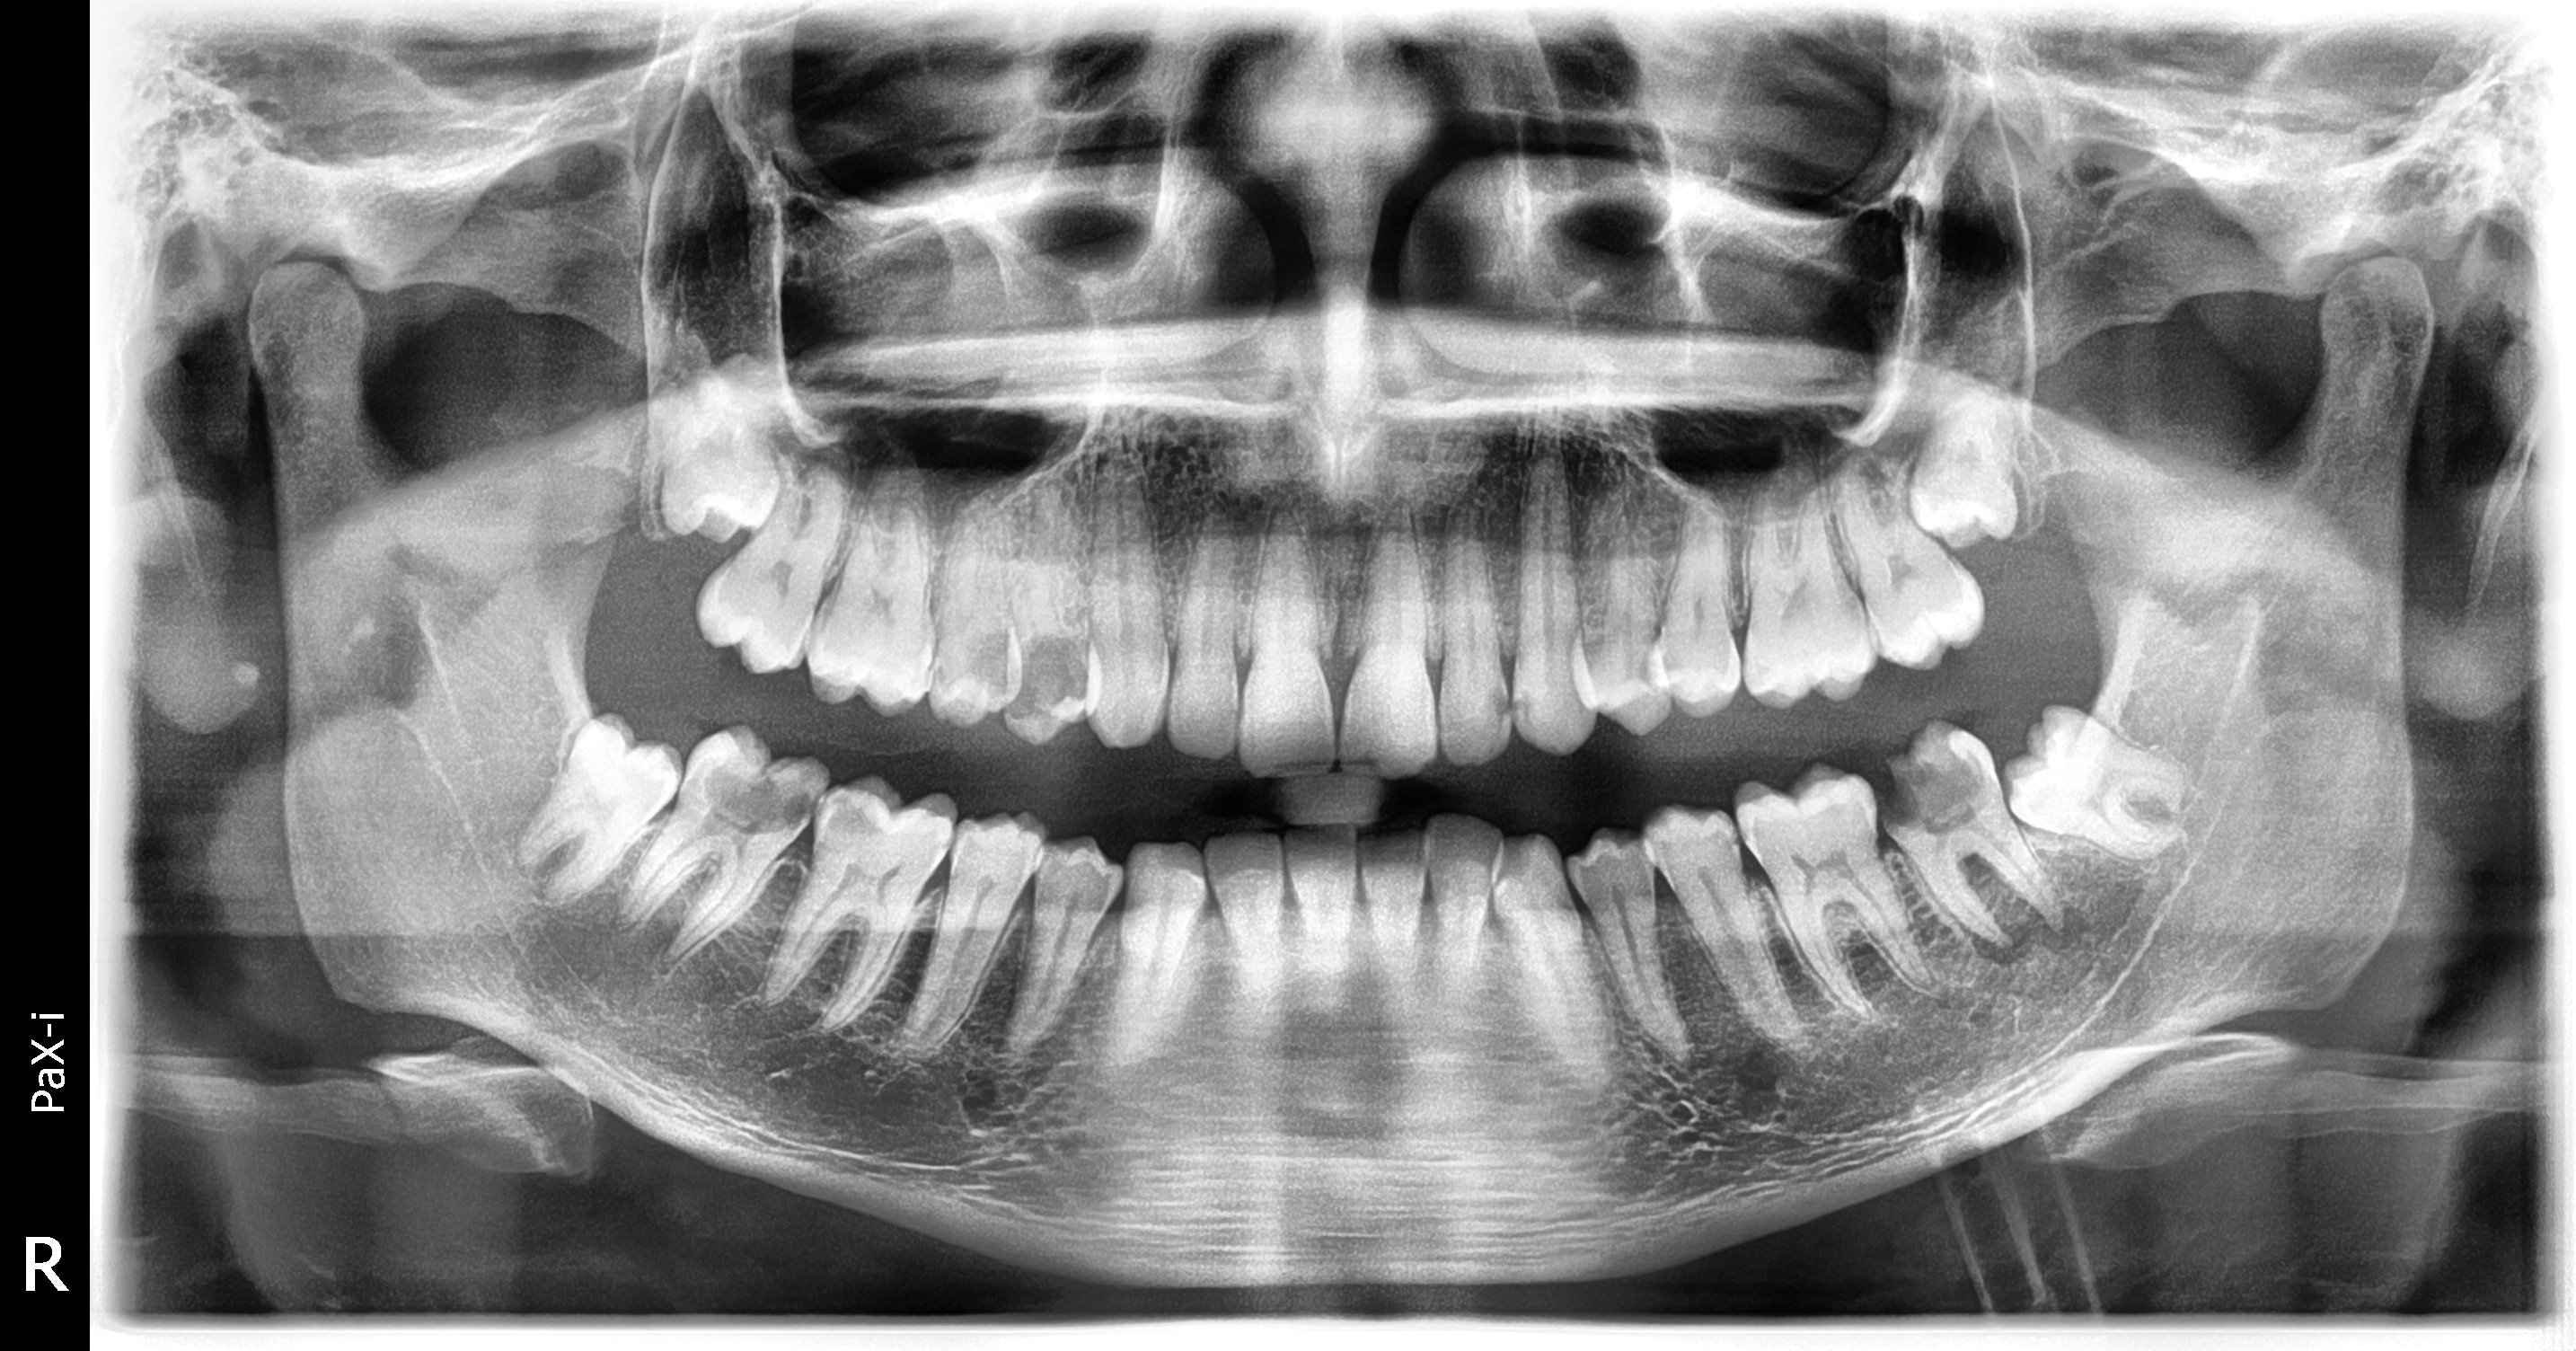API: (978, 397, 2576, 1351), (923, 433, 2576, 1351)
CAR: (876, 286, 2576, 1130), (714, 310, 2261, 1043), (700, 295, 2220, 1031), (441, 232, 1554, 981), (424, 283, 1455, 976), (371, 373, 1222, 1211), (281, 293, 1097, 1148)
IMT: (864, 250, 2576, 1118), (864, 82, 2576, 651), (210, 61, 1010, 607)
